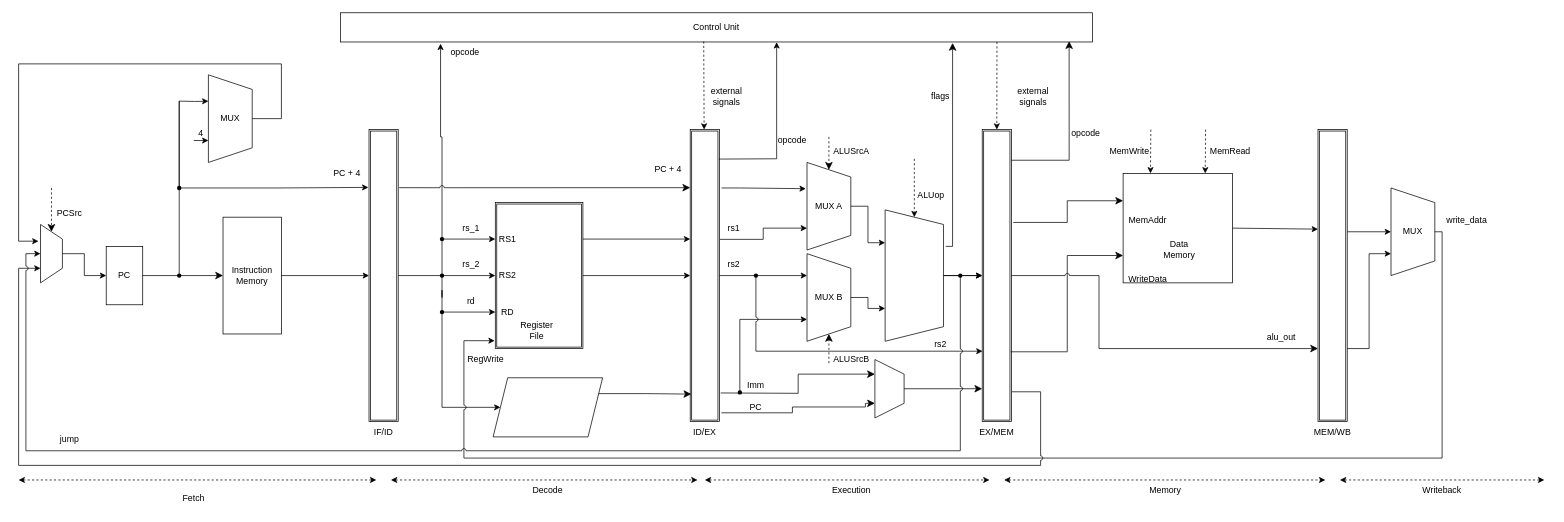
Image size: 1564x522. Some labels were removed from this diagram. Here are the shapes that lost their labels. From the top down, the centre of each, then its label:
At [51,253]: "M U X".
At [914,275]: "ALU".
At [547,407]: "Imm Generator".
At [889,388]: "Addr out".
